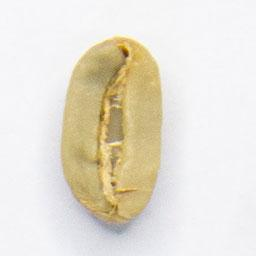longberry: (57, 32, 167, 228)
